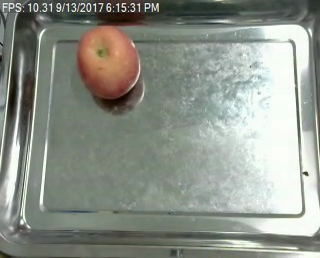Apple: (75, 25, 143, 101)
